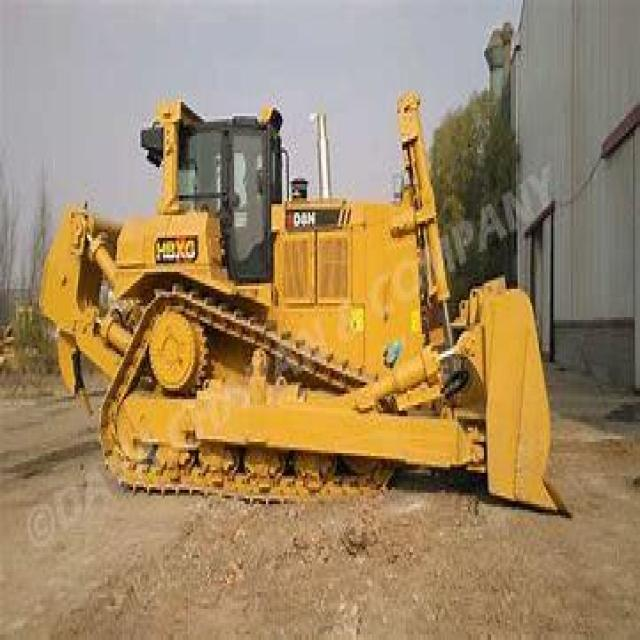buldozerpayloadergrader: (30, 62, 575, 527)
